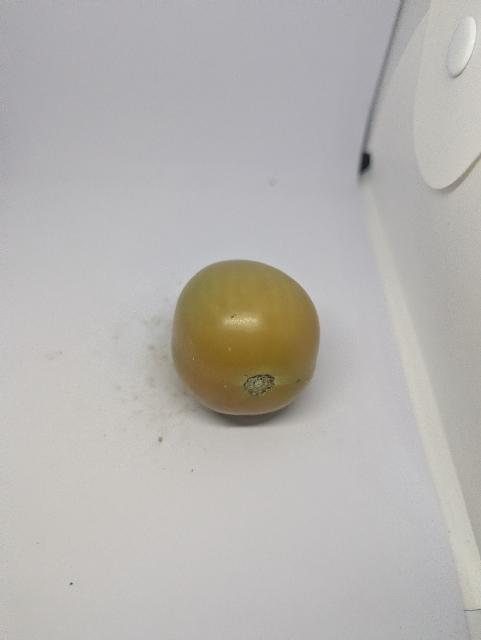breaker: (172, 260, 320, 415)
